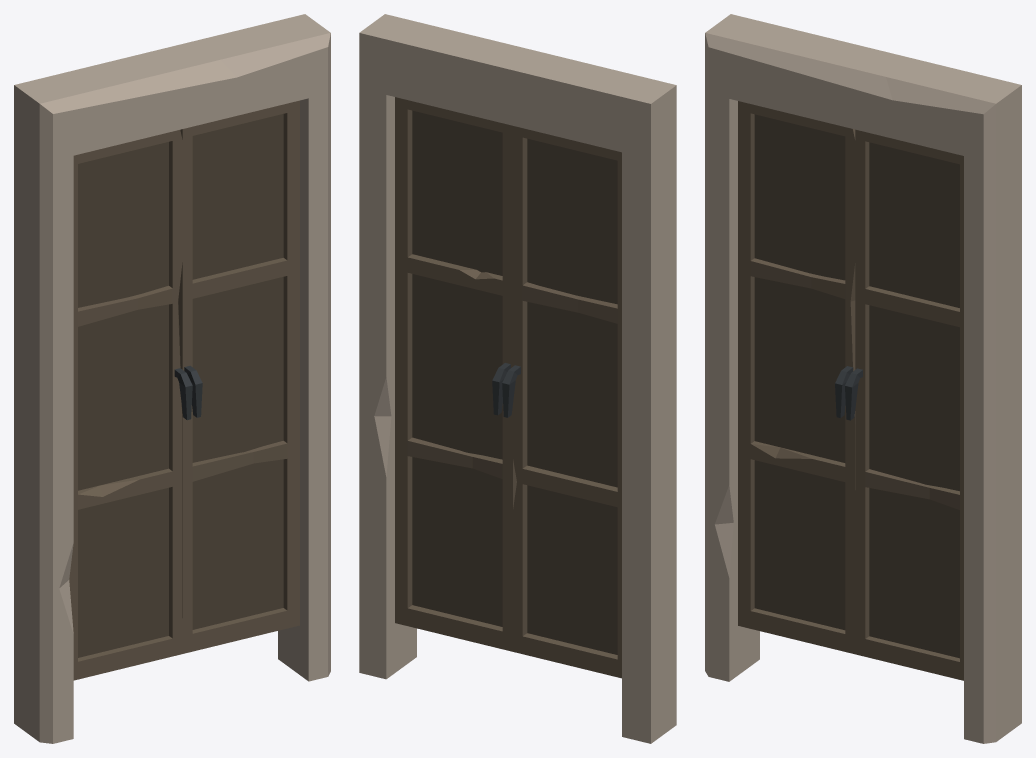
File: SM_Bld_Shop_Door_02.fbx
3 renders of one model, left to right at view 1: azimuth 30°, elevation 25°; view 2: azimuth 150°, elevation 25°; view 3: azimuth 330°, elevation 25°, orthographic.
Parts seen in each view (by area): view 1: SM_Bld_Shop_Door_02, SM_Bld_Shop_Door_02_R, SM_Bld_Shop_Door_02_L; view 2: SM_Bld_Shop_Door_02, SM_Bld_Shop_Door_02_R, SM_Bld_Shop_Door_02_L; view 3: SM_Bld_Shop_Door_02, SM_Bld_Shop_Door_02_L, SM_Bld_Shop_Door_02_R.
Part boxes in pixels (<box>): SM_Bld_Shop_Door_02: <box>14,14,330,743</box>; SM_Bld_Shop_Door_02_R: <box>178,100,299,653</box>; SM_Bld_Shop_Door_02_L: <box>69,130,192,680</box>; SM_Bld_Shop_Door_02: <box>359,14,676,743</box>; SM_Bld_Shop_Door_02_R: <box>395,97,516,651</box>; SM_Bld_Shop_Door_02_L: <box>502,126,621,678</box>; SM_Bld_Shop_Door_02: <box>705,14,1021,743</box>; SM_Bld_Shop_Door_02_L: <box>738,101,855,654</box>; SM_Bld_Shop_Door_02_R: <box>845,129,963,680</box>.
Bounding box in the file's own units: 127 × 266 × 28.05.
